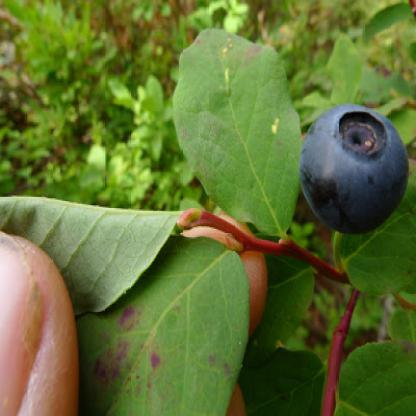blueberry leaf: (168, 22, 298, 239)
